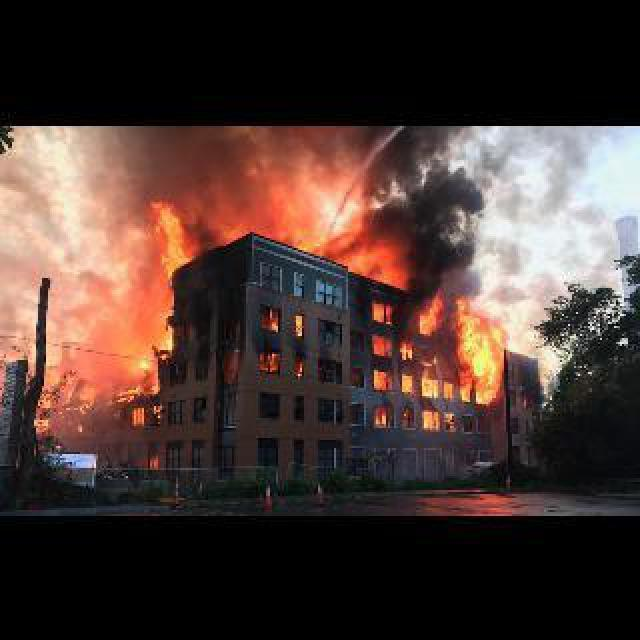Fire: (422, 290, 504, 432), (146, 192, 188, 278), (262, 306, 310, 370), (112, 376, 166, 424), (398, 336, 416, 398), (374, 400, 394, 428)
Smoke: (324, 126, 454, 260), (110, 126, 269, 225), (392, 174, 476, 330), (190, 212, 240, 322)
